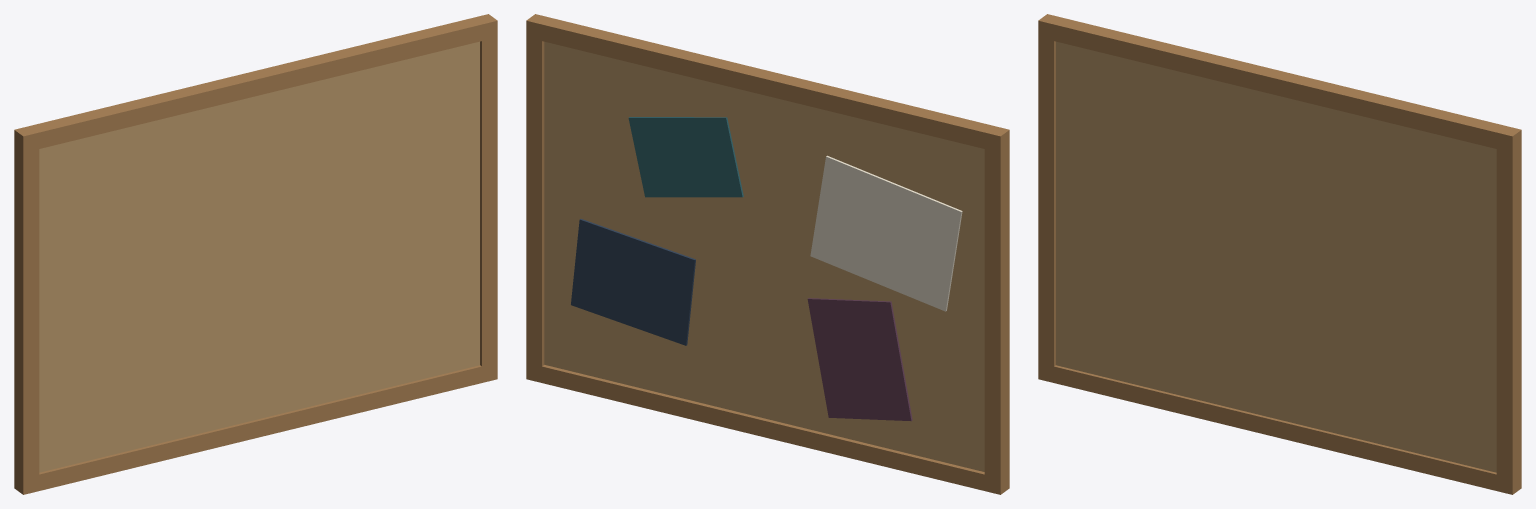
The model's file is FN_Board_Pin.glb.
The picture shows the model from 3 angles, left to right: view 1: azimuth 30°, elevation 25°; view 2: azimuth 150°, elevation 25°; view 3: azimuth 330°, elevation 25°; orthographic projection.
Visible parts, largest first — view 1: FN_Board_Pin; view 2: FN_Board_Pin; view 3: FN_Board_Pin.
Boxes of the visible parts, bbox=[...] form: FN_Board_Pin: bbox=[14, 14, 497, 494]; FN_Board_Pin: bbox=[526, 14, 1009, 494]; FN_Board_Pin: bbox=[1038, 14, 1521, 494].
Size of the model in its own units: 0.9 by 0.65 by 0.03.
Materials: 1 (1 with a texture image).
